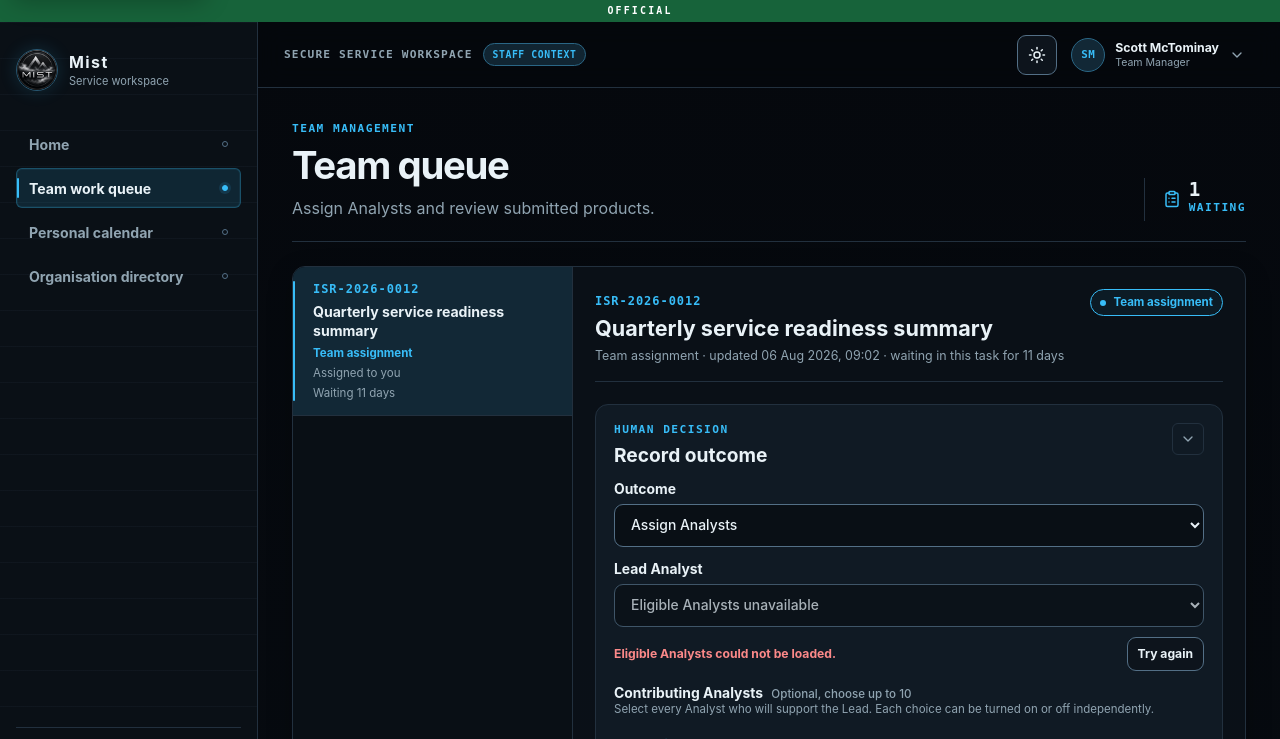
it: staff work queue › recovers specialist options from an error and reports an empty team
Check: the message shows "Eligible Analysts could not be loaded.", box [614, 646, 836, 661]
Click the button "Try again": (1165, 654) [1127, 637, 1204, 671]
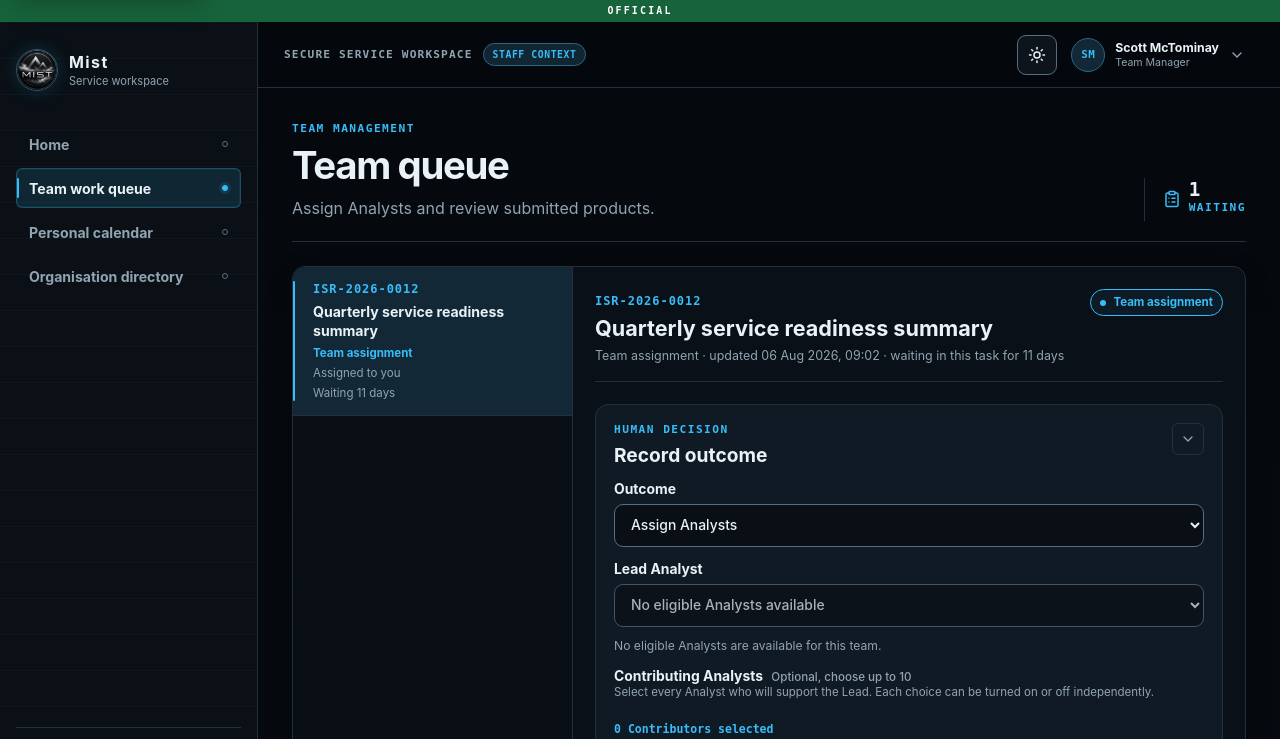
Check: the message reads "No eligible Analysts are available for this team.", box [614, 638, 882, 653]
